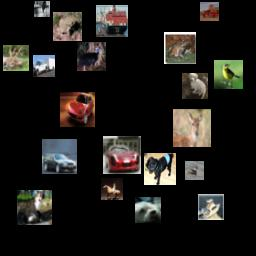automobile: (103, 136, 141, 174), (42, 139, 77, 174), (60, 92, 95, 127)
bird: (214, 60, 243, 89), (77, 42, 106, 71), (185, 161, 204, 180)
cat: (17, 190, 52, 225), (34, 1, 50, 17)
deer: (173, 109, 211, 147), (3, 45, 29, 71)
dog: (144, 153, 176, 185), (135, 197, 161, 223), (182, 73, 208, 99)
frog: (164, 32, 196, 64), (53, 12, 82, 41)
ship: (96, 5, 128, 37), (198, 194, 224, 220)
truck: (33, 55, 55, 77), (200, 2, 219, 21)
